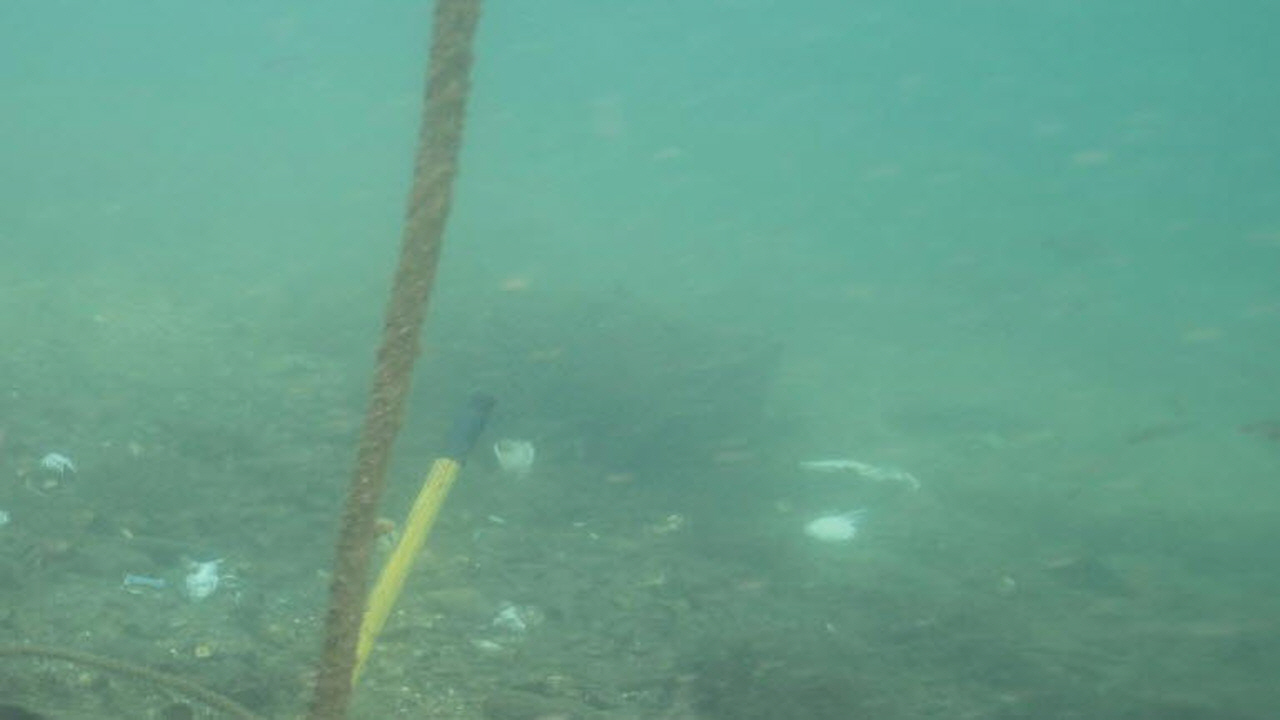rope: (301, 1, 487, 720)
